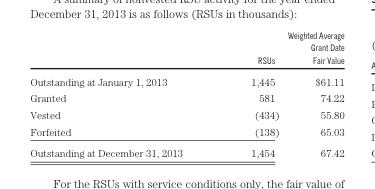table: (29, 29, 343, 158)
table column: (29, 29, 216, 158), (216, 29, 282, 158), (282, 29, 343, 158)
table column header: (29, 29, 343, 70)
table row: (29, 29, 343, 70), (29, 70, 343, 89), (29, 122, 343, 141), (29, 89, 343, 106), (29, 141, 343, 158), (29, 106, 343, 122)
